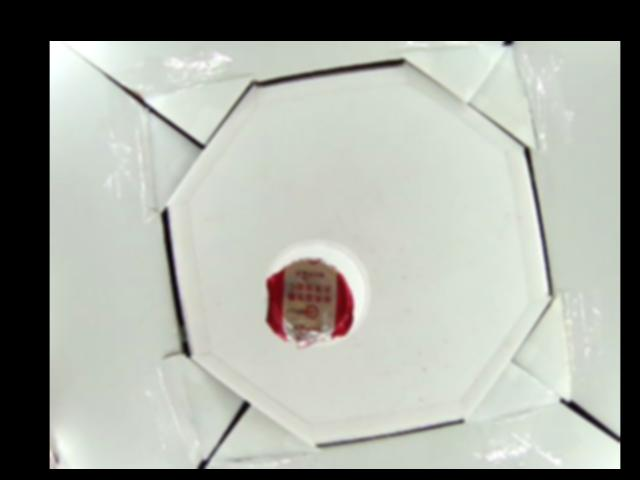Bottle: (263, 238, 371, 348)
